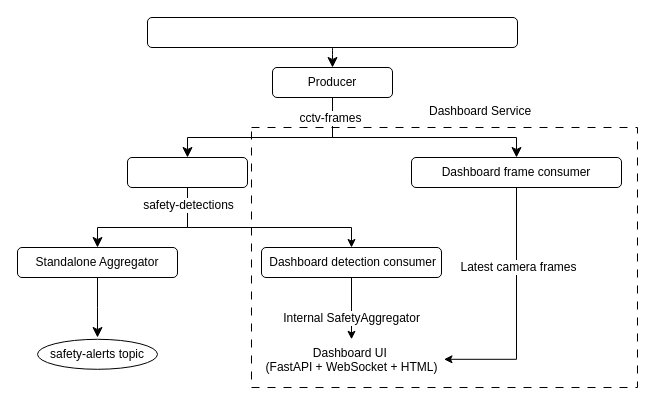
Some shapes in this 655 by 405 pixel diagram are drawn without their labels. The shapes that lost their labels are listed below. From the top down, each one's centre as x and y in pixels, then its label:
(x=332, y=32): Video / RTSP / Webcam / Video Directory
(x=187, y=172): Detector (YOLOv8-cls)
